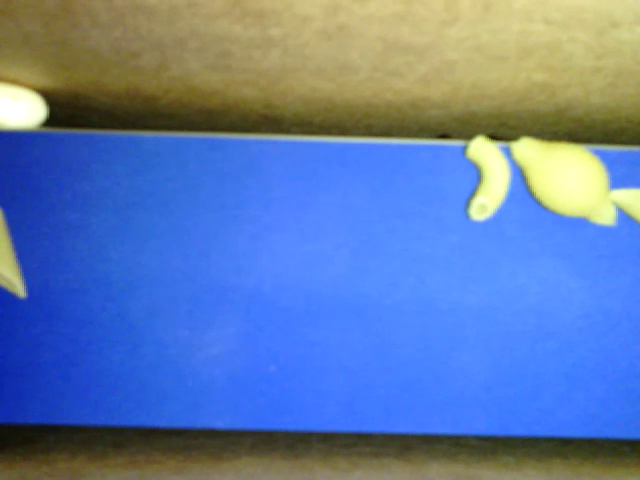elbow: (464, 134, 511, 223)
penne: (1, 206, 27, 300)
shell: (510, 136, 617, 227)
